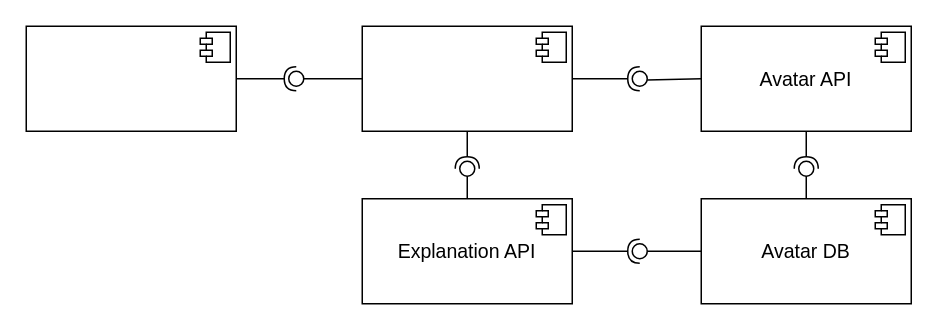
Some shapes in this 938 by 330 pixel diagram are drawn without their labels. Each missing label, with the box of its shape:
Explanation APP: (361, 25, 572, 131)
Web Browser: (25, 25, 236, 131)
